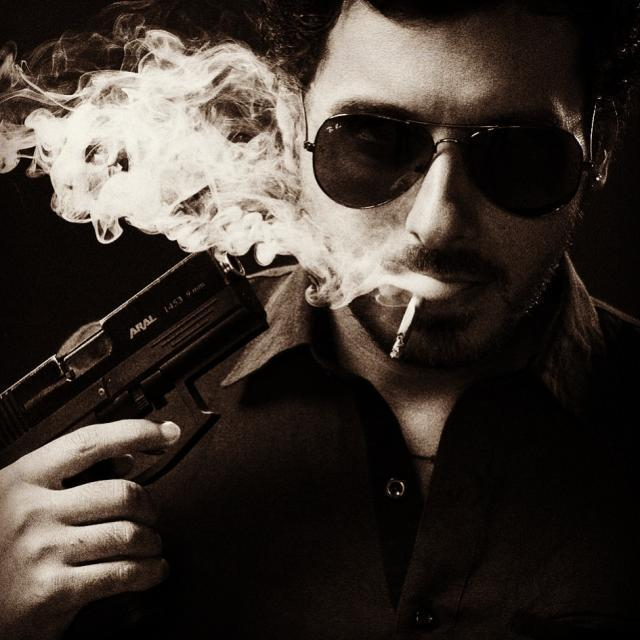rokok: (382, 283, 428, 363)
